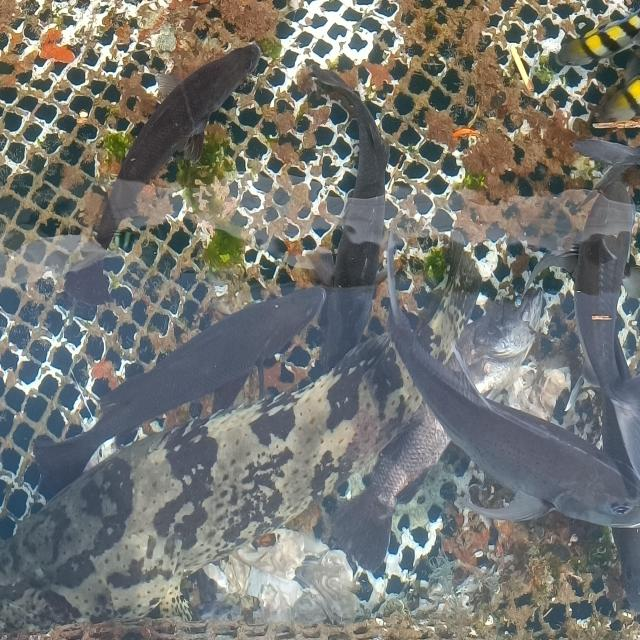ikan: (383, 226, 639, 530), (21, 276, 338, 491), (91, 40, 262, 254), (548, 8, 639, 72), (589, 74, 639, 130)
